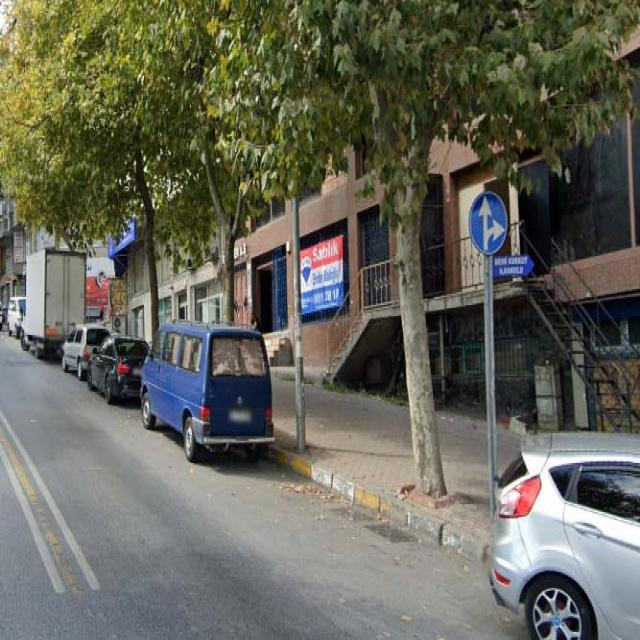ilerisag: (469, 192, 507, 254)
